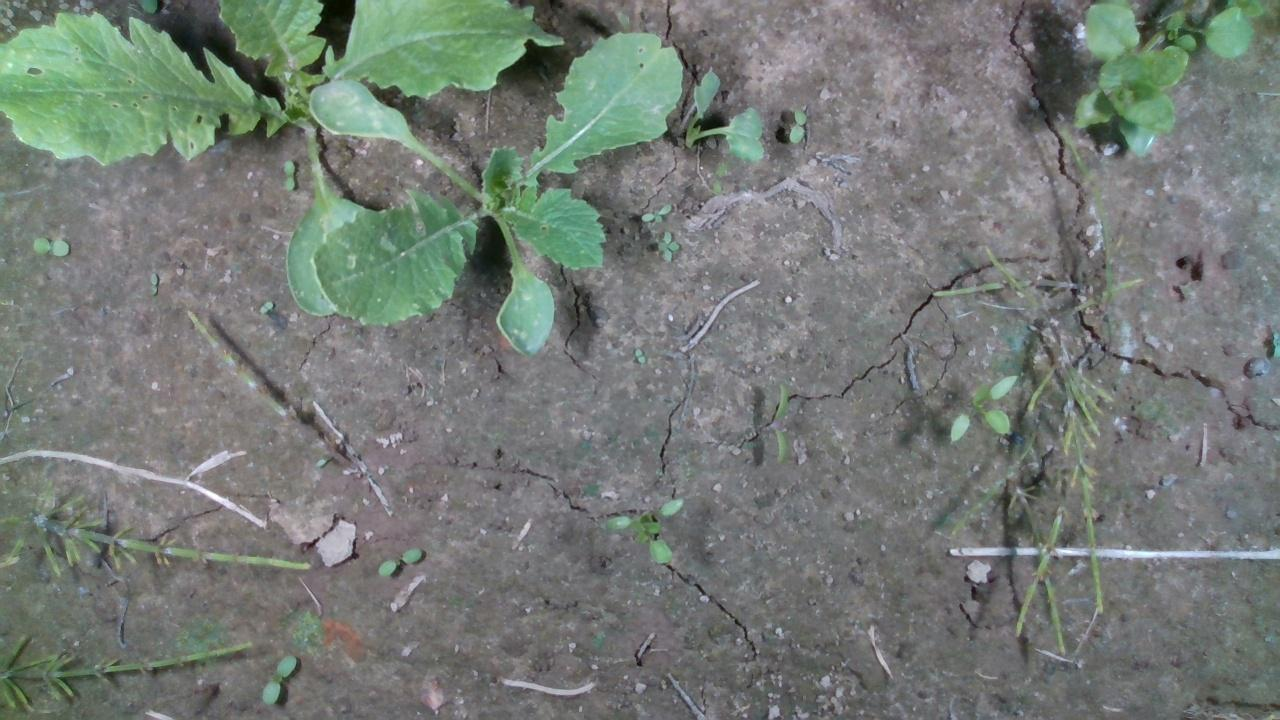weed: (948, 373, 1018, 441), (260, 653, 297, 704), (769, 380, 790, 462), (375, 546, 421, 577), (656, 229, 680, 263), (31, 236, 69, 256), (788, 104, 805, 144), (639, 202, 671, 223), (281, 158, 295, 191), (149, 272, 159, 298), (258, 298, 273, 315)
